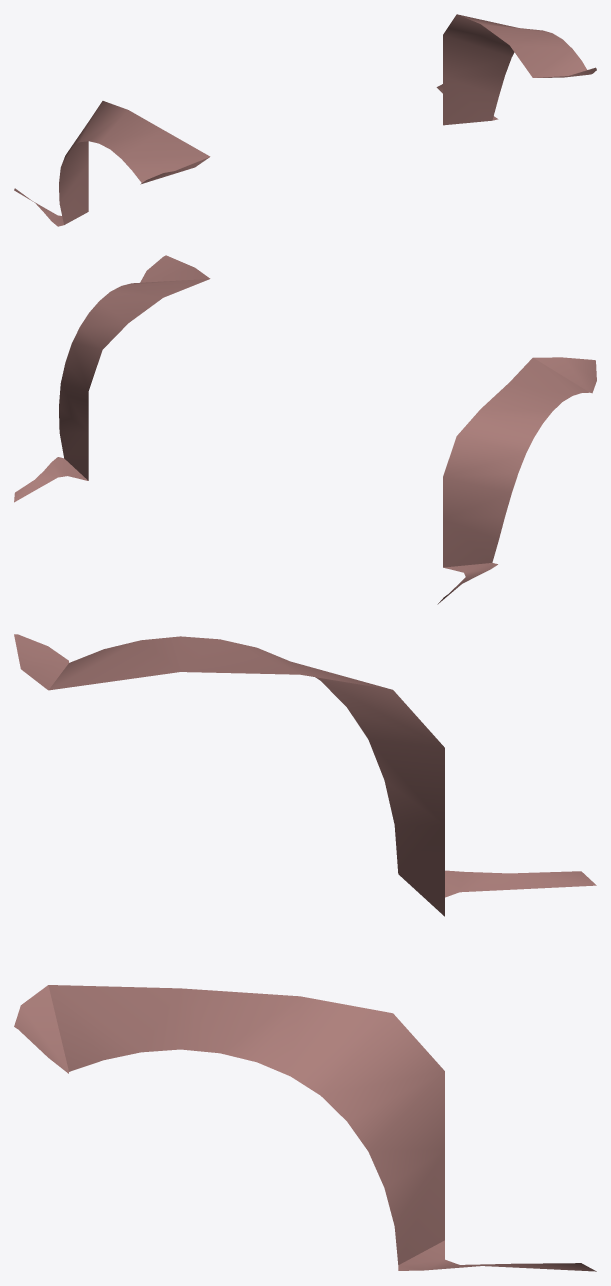
The model's file is Mustang16_Fender_Trim.fbx.
3 views of the same model, one above another, from view 1: azimuth 30°, elevation 25°; view 2: azimuth 150°, elevation 25°; view 3: azimuth 270°, elevation 25° (orthographic). The views are drawn at different scales.
Parts seen in each view (by area): view 1: Mustang16_Fender_Trim; view 2: Mustang16_Fender_Trim; view 3: Mustang16_Fender_Trim.
Boxes of the visible parts, box(x1,y1,x2,y2) form: Mustang16_Fender_Trim: box(14, 14, 596, 226); Mustang16_Fender_Trim: box(14, 255, 596, 604); Mustang16_Fender_Trim: box(14, 634, 596, 1271).
Size of the model in its own units: 184 by 51.31 by 109.
